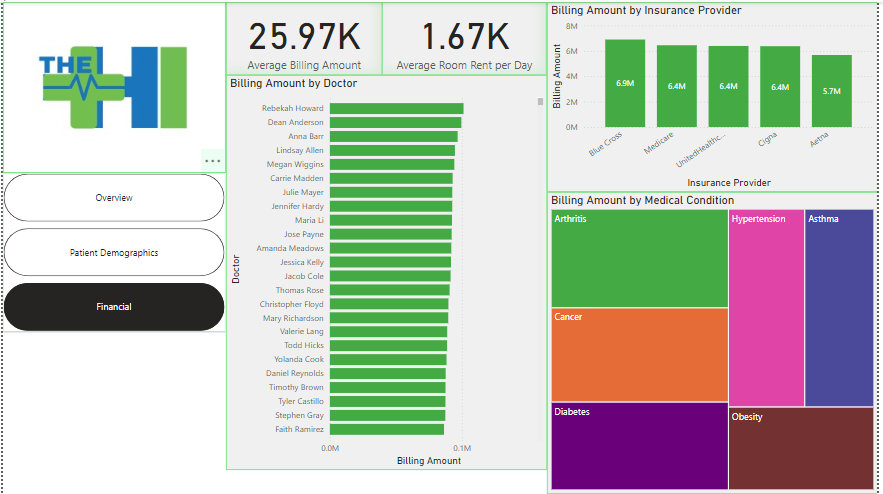

The dashboard page shown, as its layout file describes it:
{"tool":"powerbi","page":{"name":"Financial ","canvas":[1280,720],"ordinal":2},"visuals":[{"type":"columnChart","fields":{"Y":["Sum(healthcare_dataset.Billing Amount)"],"Category":["healthcare_dataset.Insurance Provider"]},"box":[796.1,0,484.4,278],"z":0},{"type":"treemap","fields":{"Values":["Sum(healthcare_dataset.Billing Amount)"],"Group":["healthcare_dataset.Medical Condition"]},"box":[796.1,278,484.4,442],"z":1000},{"type":"barChart","fields":{"Category":["healthcare_dataset.Doctor"],"Y":["Sum(healthcare_dataset.Billing Amount)"]},"box":[326.3,106.8,469.8,578],"z":2000},{"type":"image","box":[0,0,325.9,250.3],"z":3000},{"type":"pageNavigator","box":[0,250.3,325.9,233.5],"z":4000},{"type":"card","fields":{"Values":["Avg(healthcare_dataset.Billing Amount)"]},"box":[325.7,0,228.9,107.4],"z":5000},{"type":"card","fields":{"Values":["_Measure.RoomRent"]},"box":[554.6,0,241.2,107.4],"z":6000}]}

Visuals, with their boxes in screenshot pixels (x1, y1, x2, y2), scaled from the page's 1280x720 canvas onto the 883x494 screenshot:
columnChart - Sum(healthcare_dataset.Billing Amount) x healthcare_dataset.Insurance Provider: l=549, t=0, r=882, b=191
treemap - Sum(healthcare_dataset.Billing Amount) x healthcare_dataset.Medical Condition: l=549, t=191, r=882, b=493
barChart - healthcare_dataset.Doctor x Sum(healthcare_dataset.Billing Amount): l=225, t=73, r=549, b=470
image: l=0, t=0, r=225, b=172
pageNavigator: l=0, t=172, r=225, b=332
card - Avg(healthcare_dataset.Billing Amount): l=225, t=0, r=383, b=74
card - _Measure.RoomRent: l=383, t=0, r=549, b=74
